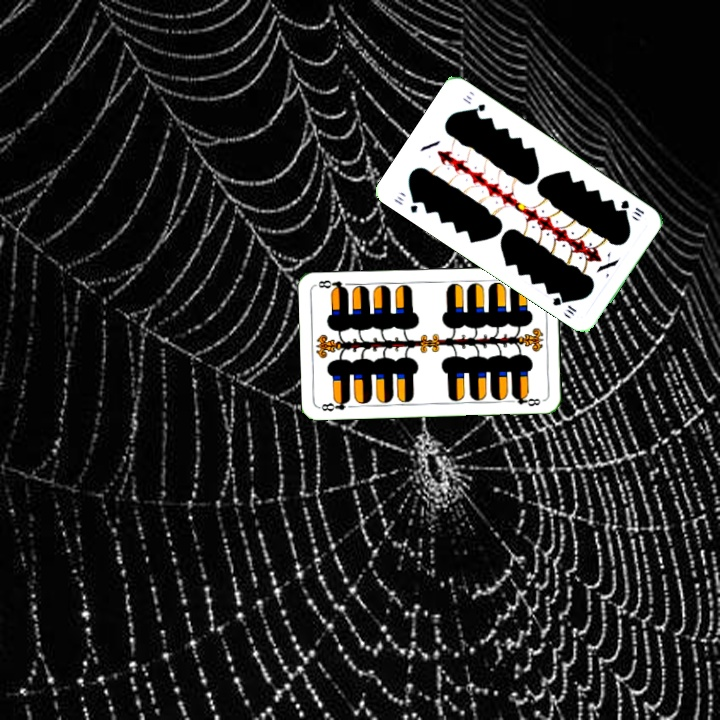E8: (316, 395, 353, 414)
G10: (389, 192, 422, 216), (616, 196, 647, 219)
